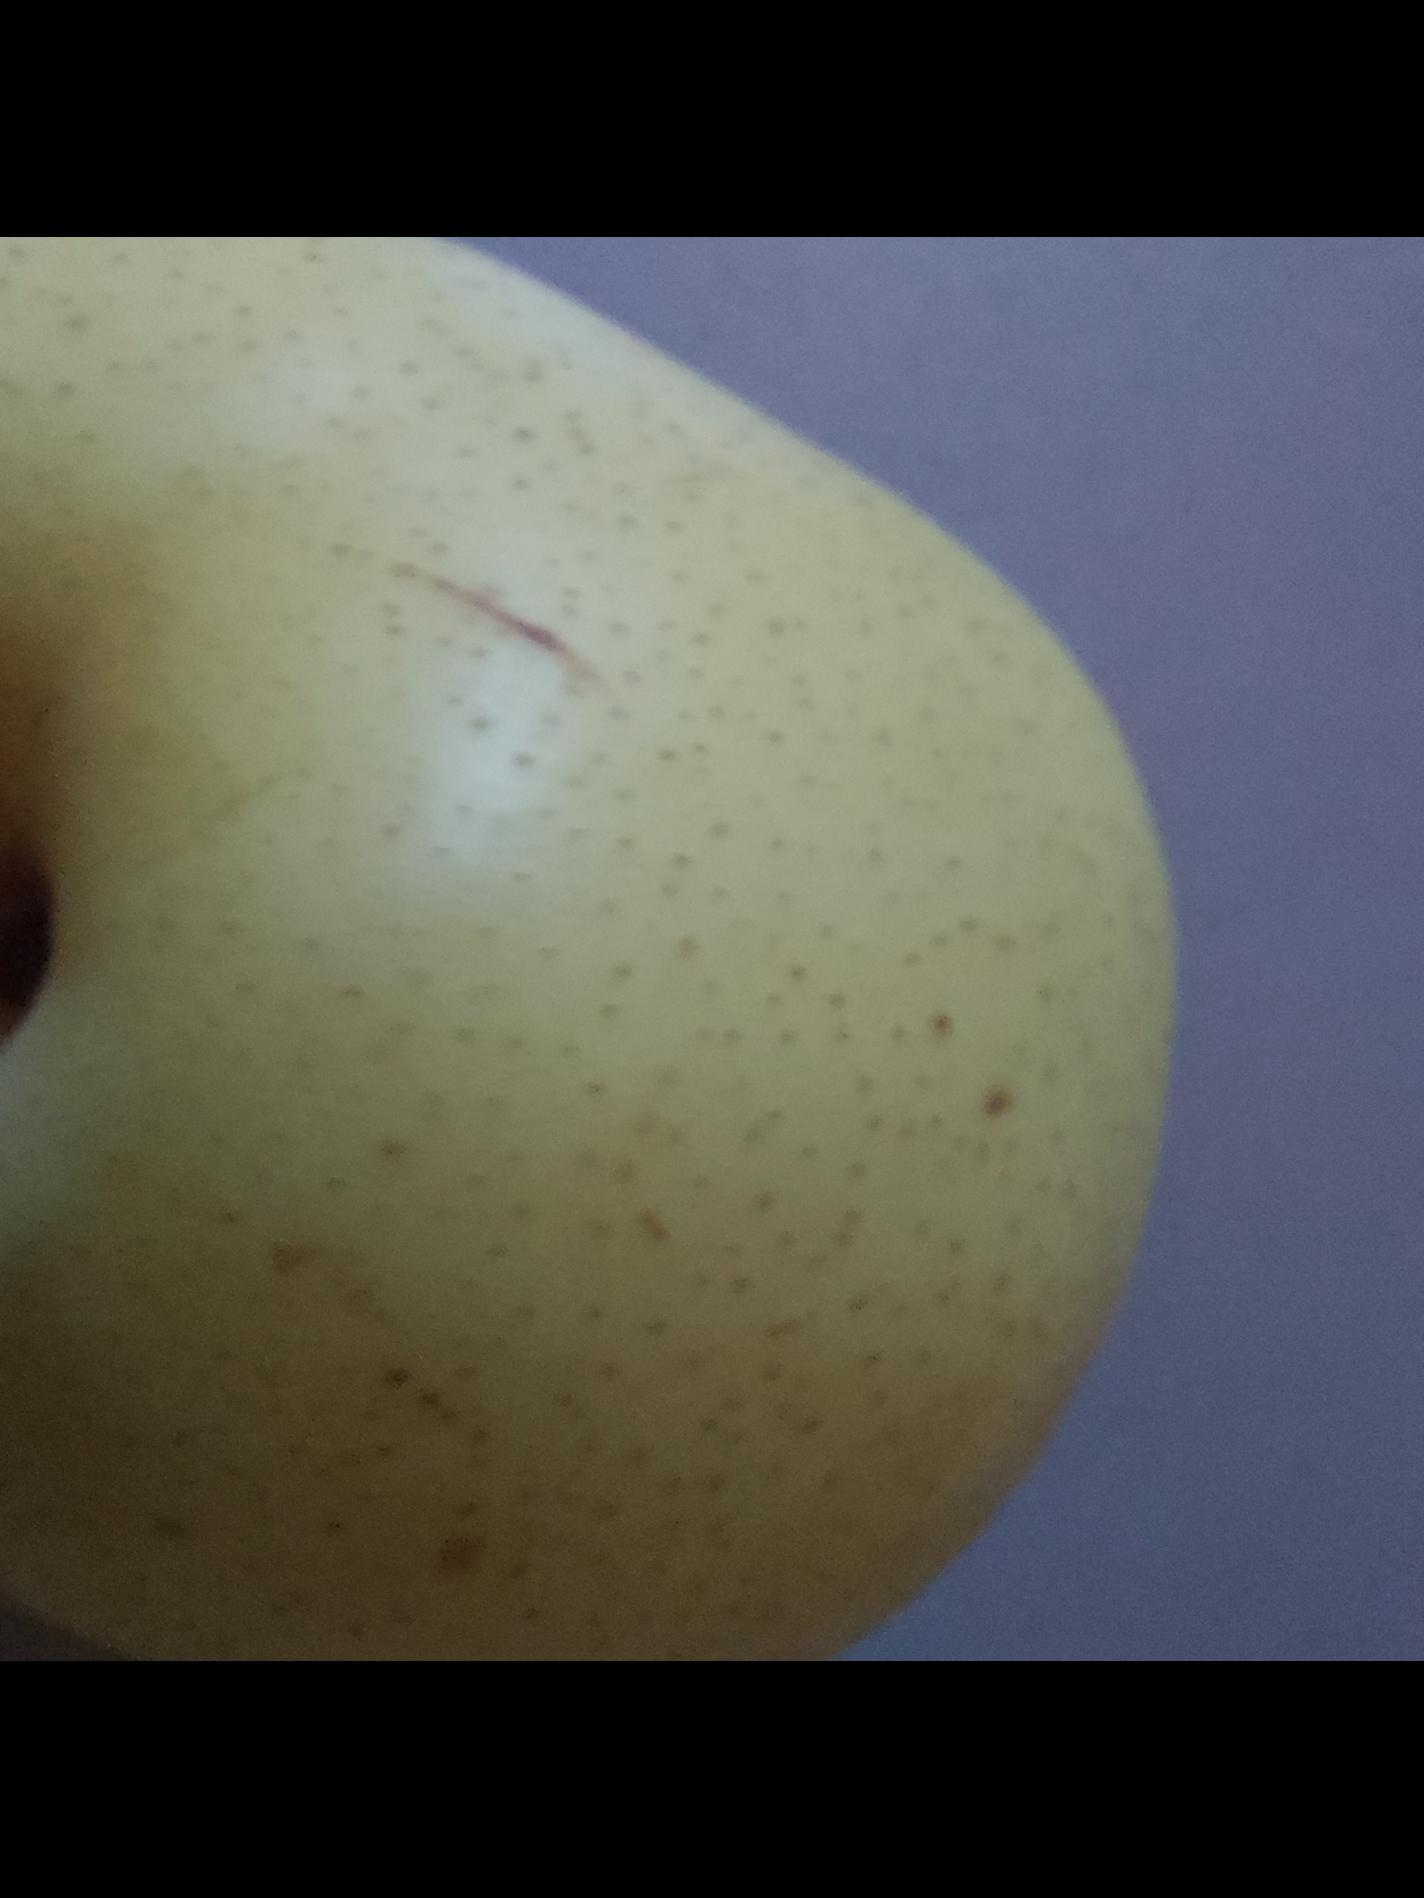Good Pear: (0, 236, 1192, 1662)
